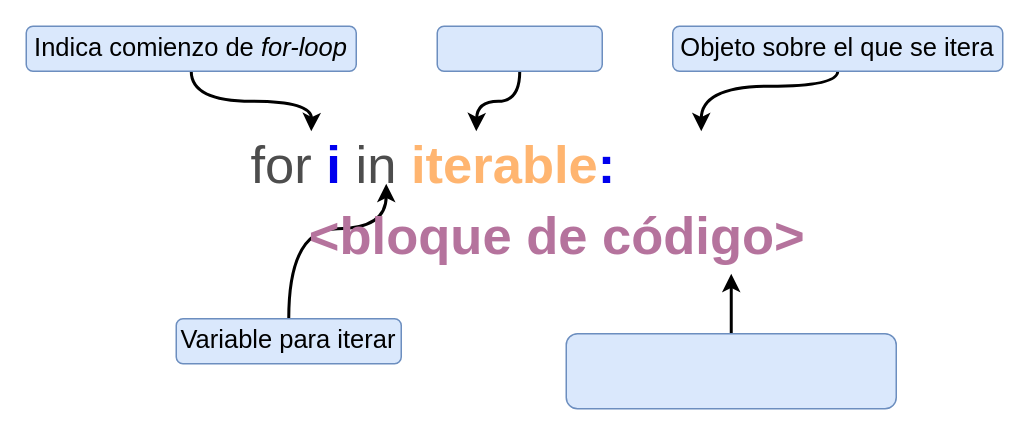
Some shapes in this 1029 by 435 pixel diagram are drawn without their labels. Each missing label, with the centre of its shape:
Código que se ejecuta en cada iteración: the point at 730,370
keyword in: the point at 519,48
